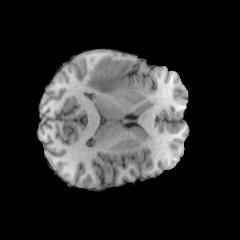glioma: (86, 57, 130, 93)
